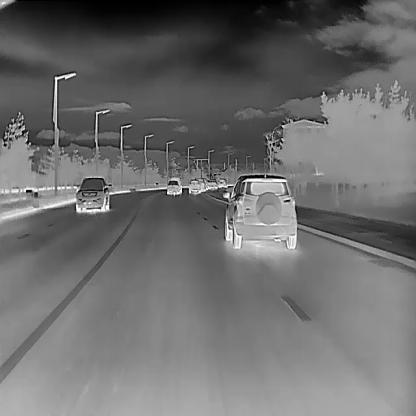car: (222, 173, 297, 249), (76, 177, 109, 212), (166, 179, 180, 194), (188, 178, 200, 192), (196, 177, 205, 191), (217, 177, 227, 188), (207, 179, 217, 189)
